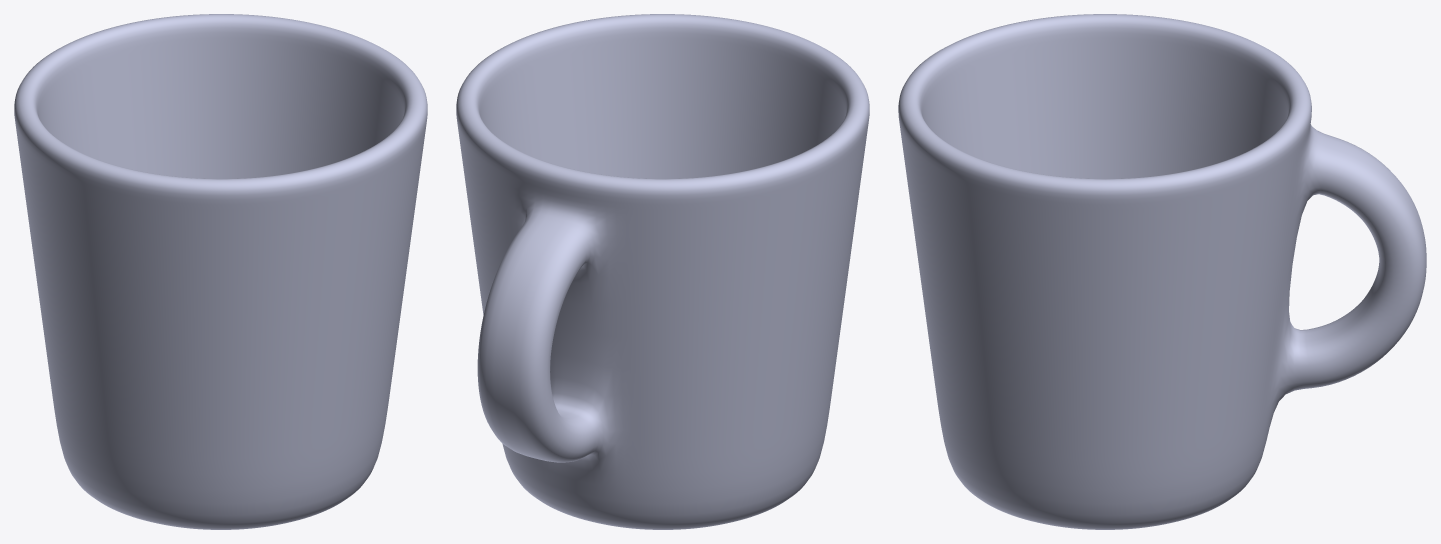
3 renders of one model, left to right at view 1: azimuth 30°, elevation 25°; view 2: azimuth 150°, elevation 25°; view 3: azimuth 270°, elevation 25°, orthographic.
Visible parts, largest first — view 1: Circle; view 2: Circle; view 3: Circle.
Part boxes in pixels (x1,y1,x2,y2): Circle: (14, 14, 427, 529); Circle: (456, 14, 869, 529); Circle: (898, 14, 1426, 529).
Bounding box in the file's own units: 261 × 264 × 334.
